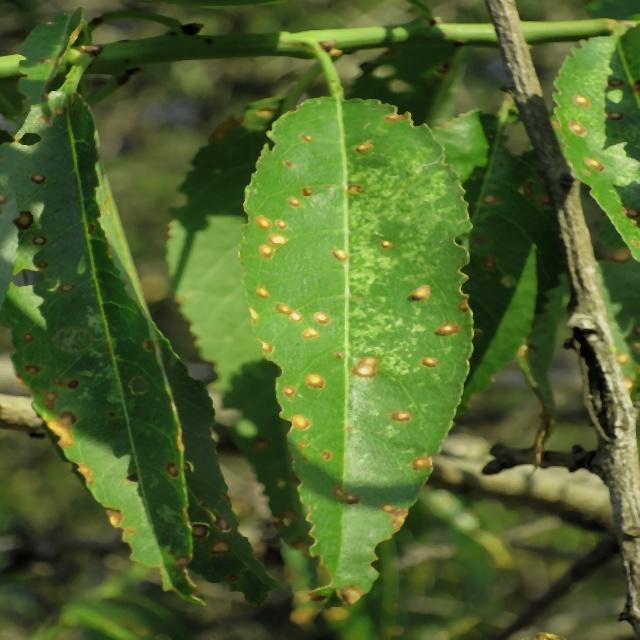leaf_spot: (196, 61, 496, 611)
